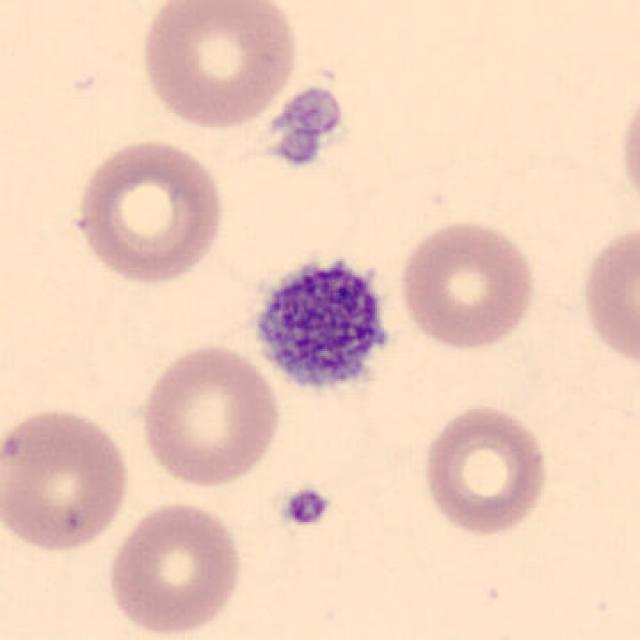Lymphocyte: (244, 244, 404, 406)
Platelets: (244, 247, 402, 405), (263, 84, 349, 174), (279, 483, 334, 531)
RBC: (68, 134, 230, 287), (135, 339, 285, 490), (135, 0, 302, 132), (2, 402, 135, 555), (103, 497, 247, 638), (394, 215, 540, 353), (418, 400, 553, 540), (576, 219, 638, 372), (613, 81, 640, 219)
